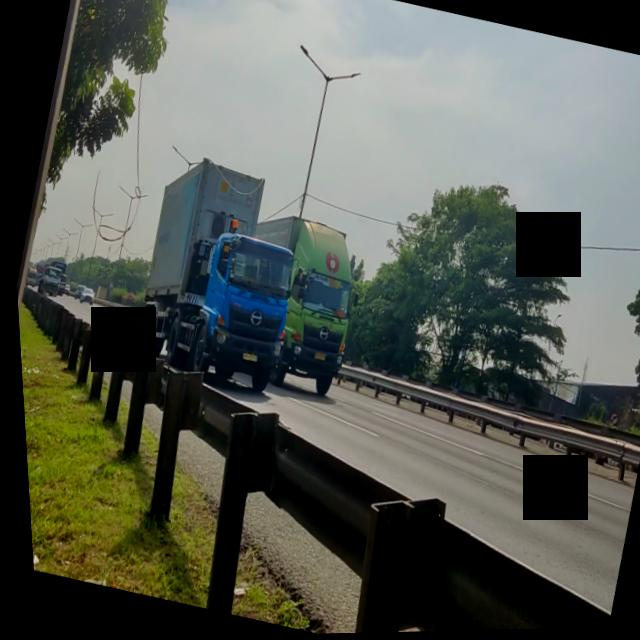Golongan IV: (114, 167, 315, 406)
